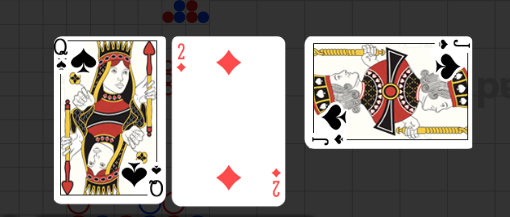2D: (176, 42, 188, 74)
9S: (54, 37, 68, 73)
